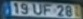1: (13, 2, 18, 14)
2: (56, 4, 64, 17)
8: (65, 5, 73, 17)
9: (20, 3, 28, 14)
F: (43, 3, 52, 15)
U: (32, 3, 42, 16)
